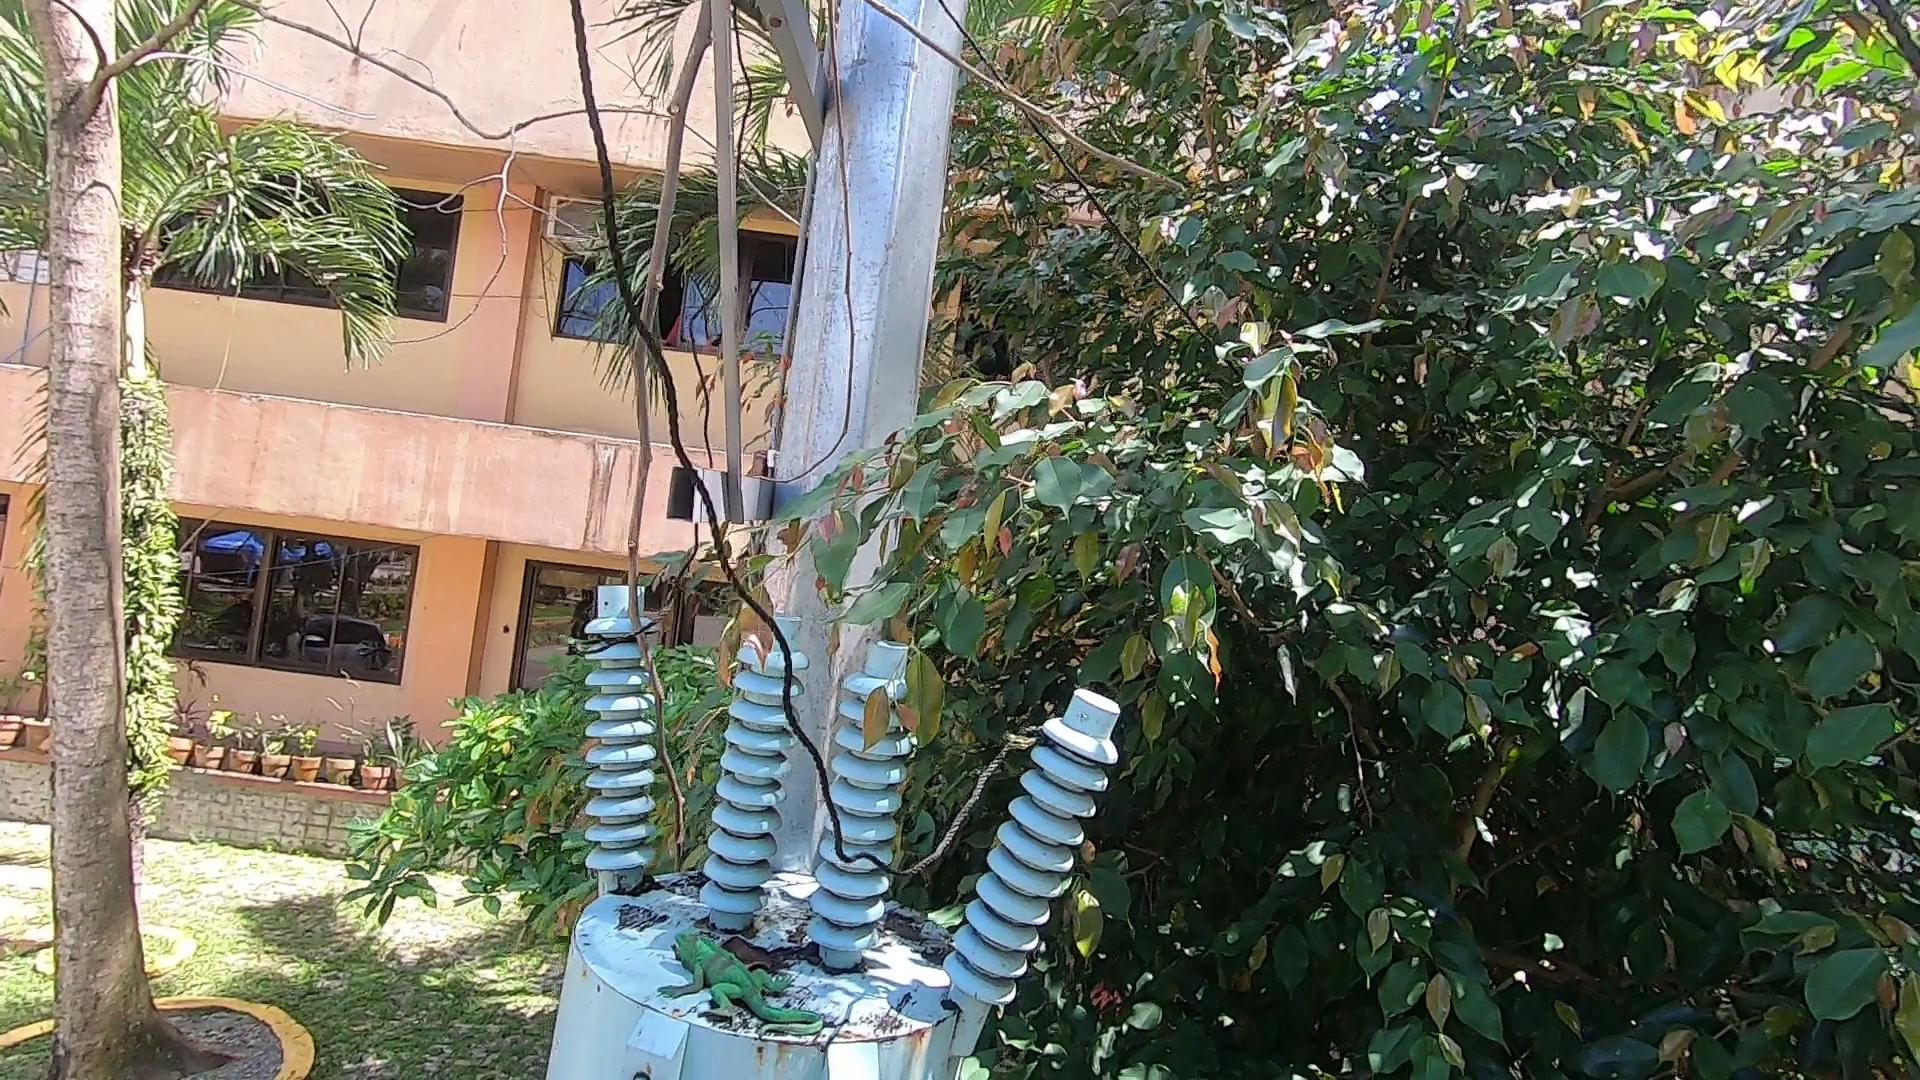branch with leaves: (694, 464, 1029, 752)
leaf: (713, 927, 835, 973), (885, 899, 951, 968), (611, 868, 676, 894)
tree branch: (593, 5, 1220, 868)
